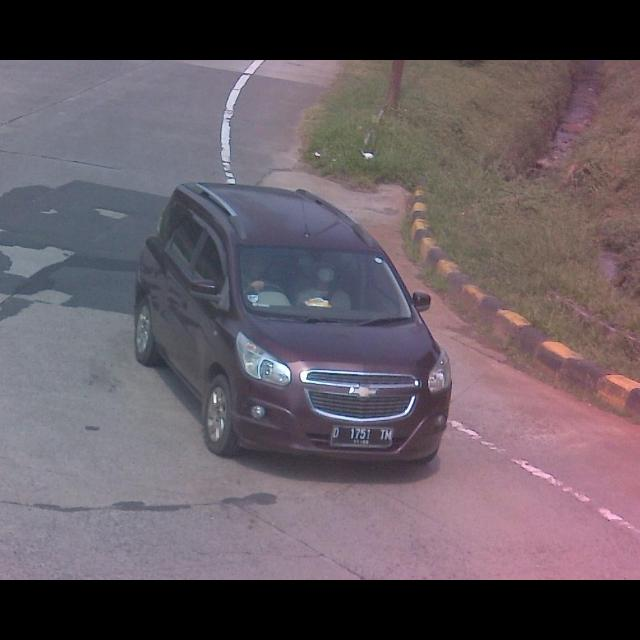plate: (330, 424, 394, 450)
